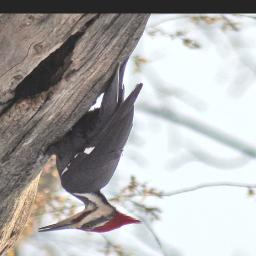Woodpecker: (34, 59, 146, 233)
